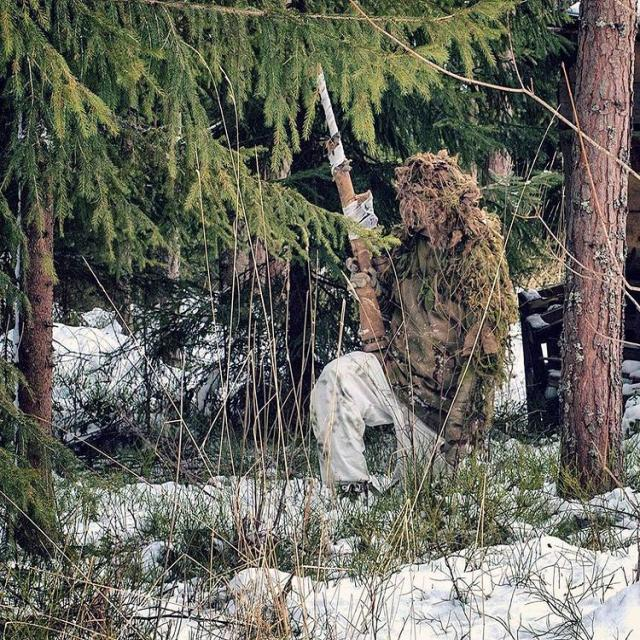Human: (306, 64, 515, 509)
